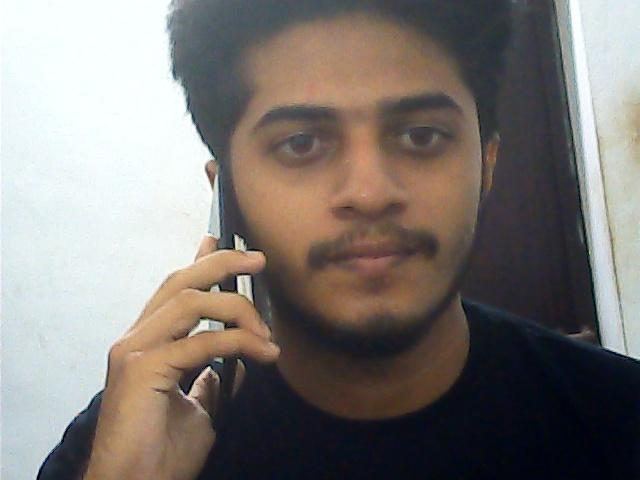PhoneUse: (178, 174, 274, 410)
SafeDriving: (379, 104, 464, 164), (260, 114, 344, 168)
